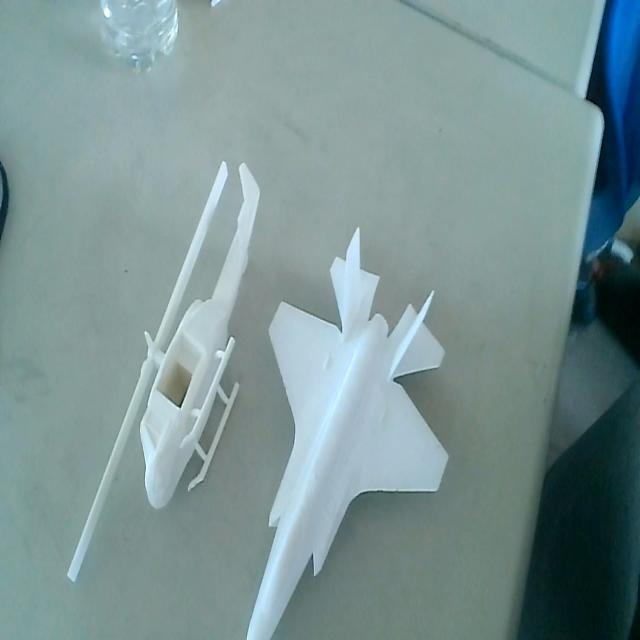Helicopter: (72, 161, 258, 584)
Jet: (245, 223, 451, 640)
